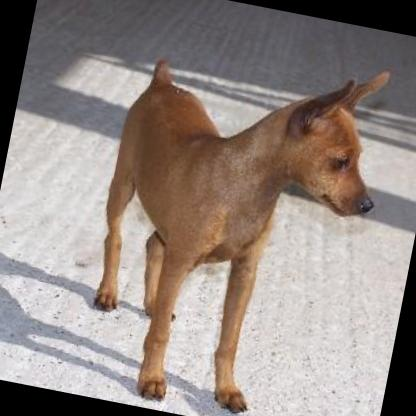miniature_pinscher: (64, 21, 399, 416)
